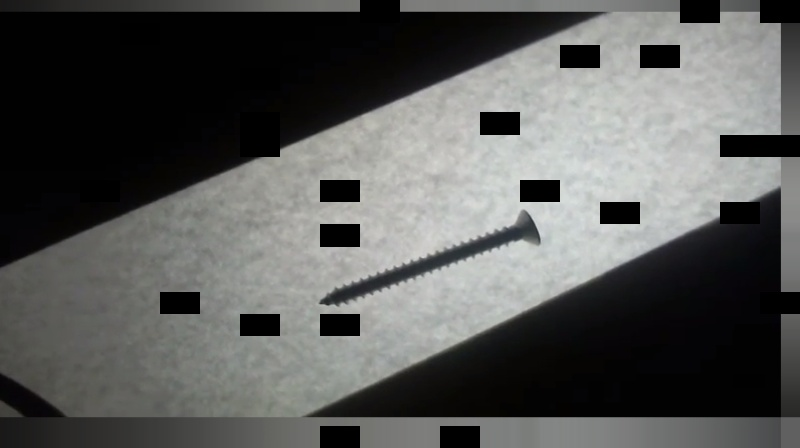S002: (314, 205, 546, 310)
